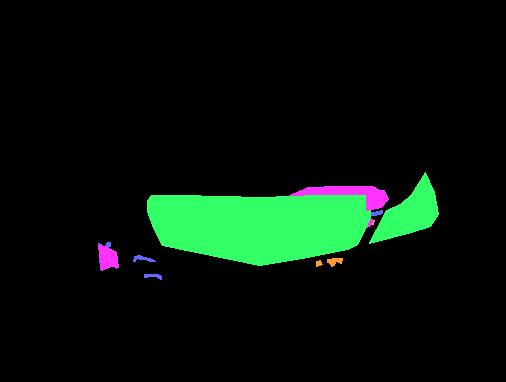Broken part: (147, 195, 370, 265), (369, 172, 438, 243)
Dent: (287, 186, 385, 198), (98, 245, 118, 270), (366, 190, 388, 210), (364, 218, 373, 228)
Paint chip: (327, 258, 342, 266), (316, 260, 322, 266), (368, 220, 374, 224)
Scratch: (108, 250, 117, 268), (99, 256, 111, 267), (133, 255, 155, 261), (310, 187, 327, 193), (144, 274, 161, 279), (370, 210, 382, 215), (340, 189, 354, 192), (98, 243, 104, 249), (105, 242, 110, 247), (100, 265, 105, 270)
